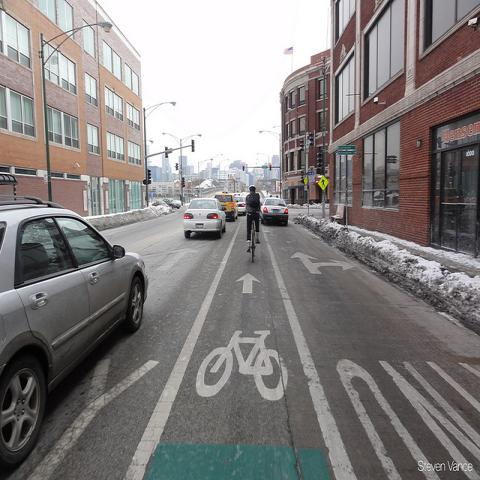car: (0, 194, 150, 465), (184, 198, 227, 240), (262, 198, 288, 224), (214, 194, 238, 222), (233, 196, 246, 216), (162, 198, 182, 209), (151, 200, 166, 206)
